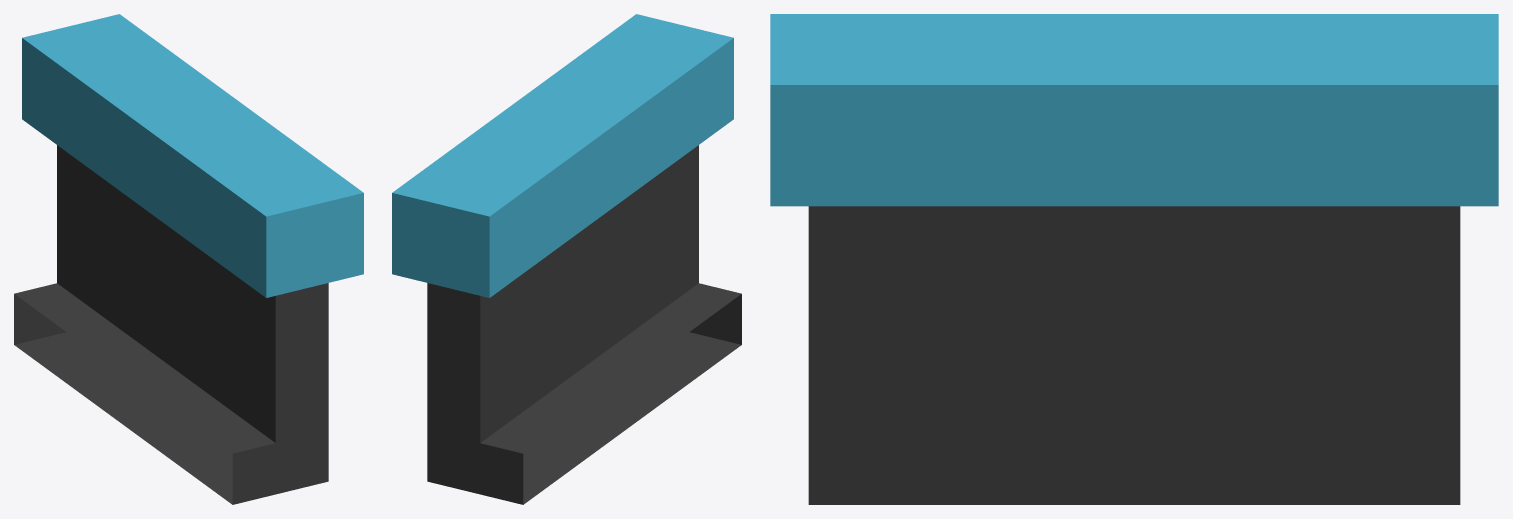
The model's file is Itr_Officechair_Side_Right_05.FBX.
3 renders of one model, left to right at view 1: azimuth 30°, elevation 25°; view 2: azimuth 150°, elevation 25°; view 3: azimuth 270°, elevation 25°, orthographic. The views are drawn at different scales.
Parts seen in each view (by area): view 1: Itr_Officechair_Side_Right_05; view 2: Itr_Officechair_Side_Right_05; view 3: Itr_Officechair_Side_Right_05.
Boxes of the visible parts, x1=… form: Itr_Officechair_Side_Right_05: x1=14, y1=14, x2=363, y2=504; Itr_Officechair_Side_Right_05: x1=392, y1=14, x2=741, y2=504; Itr_Officechair_Side_Right_05: x1=770, y1=14, x2=1498, y2=504.
Bounding box in the file's own units: 5.8 × 13.72 × 20.76.
